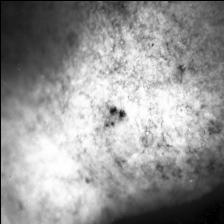Potentially Malignant Skin Tumors: (99, 100, 128, 130)
